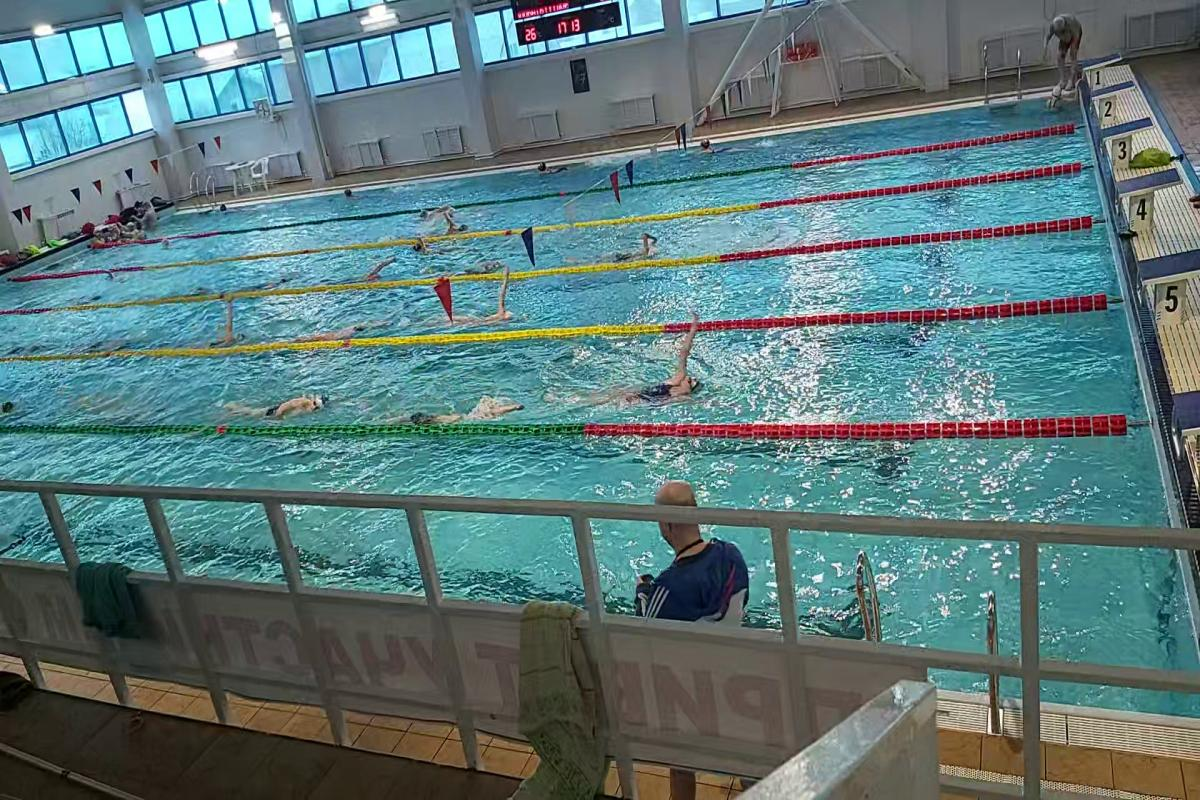swimmer: (572, 336, 708, 414), (401, 380, 529, 427), (218, 381, 341, 421), (312, 314, 394, 346), (454, 290, 520, 328), (208, 297, 248, 345), (610, 230, 668, 262), (432, 206, 484, 230), (367, 255, 408, 284), (462, 257, 516, 273), (411, 242, 434, 259)
